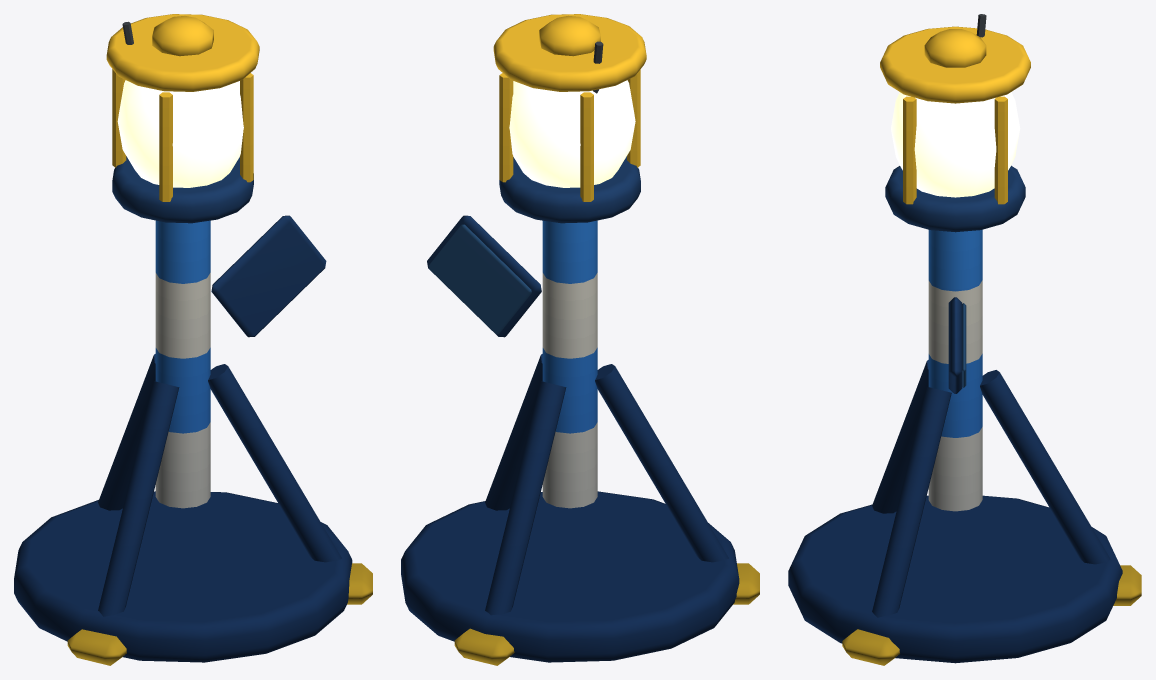
The model's file is beacon.glb.
The picture shows the model from 3 angles, left to right: view 1: azimuth 30°, elevation 25°; view 2: azimuth 150°, elevation 25°; view 3: azimuth 270°, elevation 25°; orthographic projection. The views are drawn at different scales.
Visible parts, largest first — view 1: beacon Kestrel navy, beacon Sunflower, beacon Lamp glow, beacon Warm white, beacon Kestrel sky; view 2: beacon Kestrel navy, beacon Sunflower, beacon Lamp glow, beacon Warm white, beacon Kestrel sky, beacon Tinted glass; view 3: beacon Kestrel navy, beacon Sunflower, beacon Lamp glow, beacon Warm white, beacon Kestrel sky.
Boxes of the visible parts, x1,y1,x2,y2 form: beacon Kestrel navy: [14, 156, 352, 662]; beacon Sunflower: [67, 14, 372, 665]; beacon Lamp glow: [117, 80, 243, 187]; beacon Warm white: [155, 273, 210, 508]; beacon Kestrel sky: [155, 220, 210, 433]; beacon Kestrel navy: [401, 156, 739, 662]; beacon Sunflower: [454, 14, 759, 665]; beacon Lamp glow: [509, 80, 635, 187]; beacon Warm white: [542, 273, 597, 508]; beacon Kestrel sky: [542, 220, 597, 433]; beacon Tinted glass: [428, 224, 531, 334]; beacon Kestrel navy: [788, 165, 1122, 663]; beacon Sunflower: [842, 26, 1141, 665]; beacon Lamp glow: [891, 92, 1020, 197]; beacon Warm white: [928, 280, 982, 511]; beacon Kestrel sky: [928, 229, 982, 437].
Size of the model in its own units: 1.27 by 2.31 by 1.31.
Materials: 7 (5 with a texture image).
